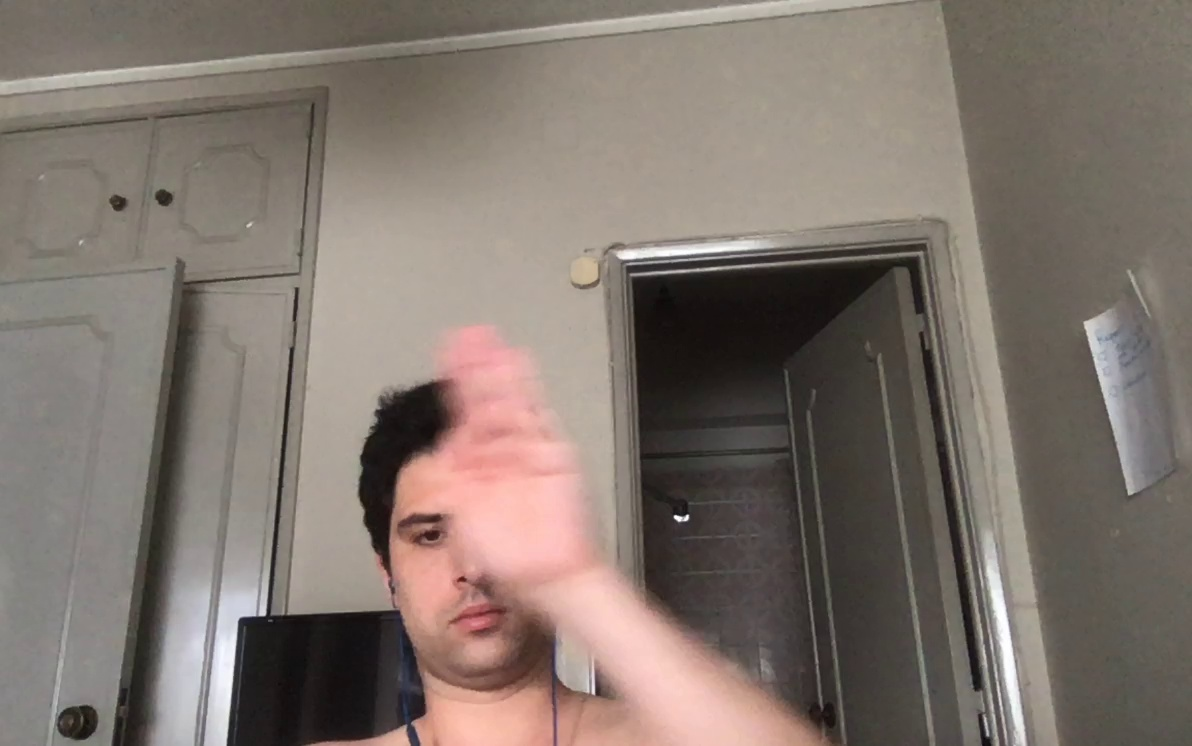b: (433, 320, 605, 599)
